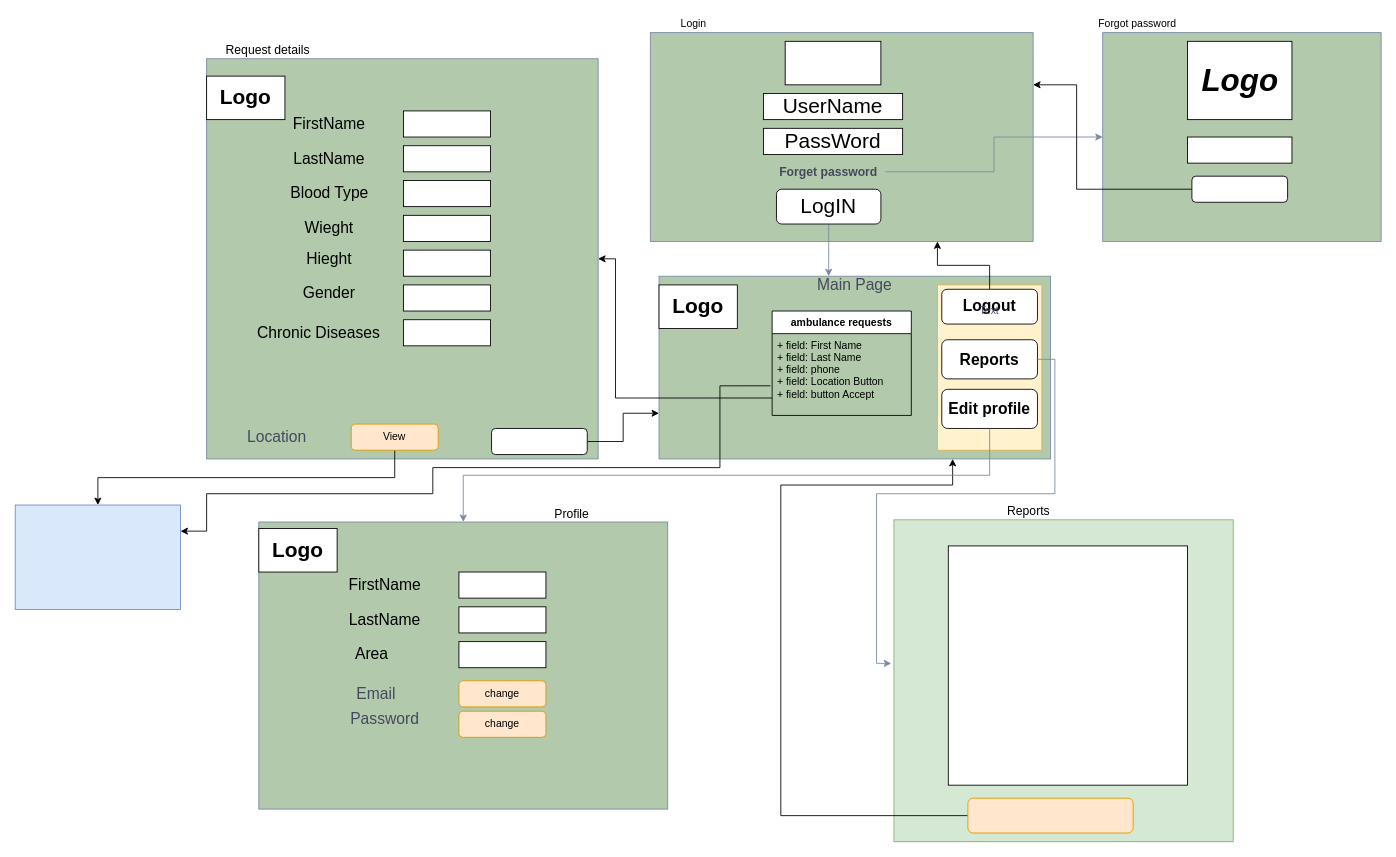
The diagram is 1396 pixels wide and 857 high, and some of its shapes have lost their labels. Here are the shapes that lost their labels. From the top down, the centre of each, then its label:
At point 832,62: "L0g0".
At point 1239,149: "E-mail".
At point 1239,188: "Continue".
At point 539,441: "Delivered".
At point 97,556: "Location Leads to google maps with the location of the patient to navigate to.".
At point 1067,665: "Reports.........".
At point 1050,815: "Send Reports".
